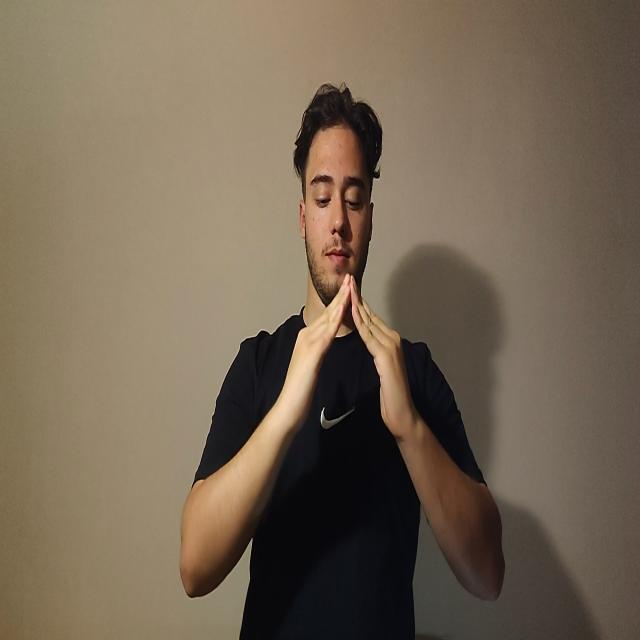house: (279, 276, 417, 446)
